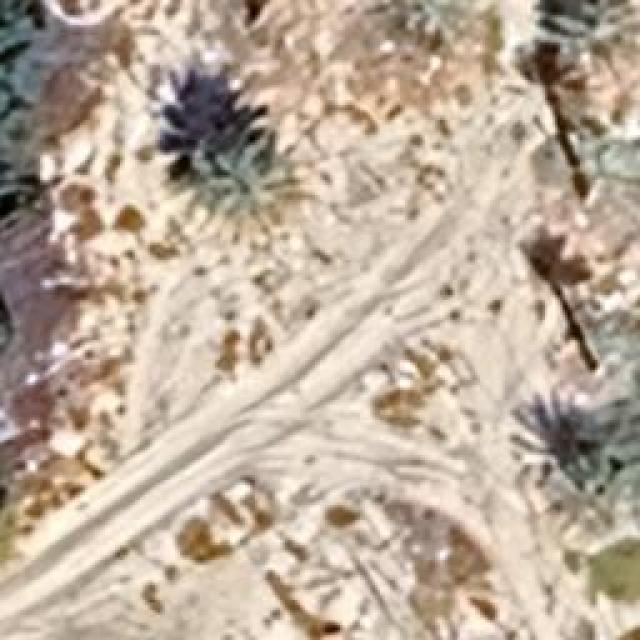PalmTree: (78, 96, 601, 171), (98, 42, 589, 96), (504, 76, 610, 186), (200, 125, 290, 227), (545, 414, 640, 504), (576, 276, 640, 400), (384, 4, 476, 48), (196, 0, 290, 40), (0, 466, 28, 569), (0, 0, 41, 62)
